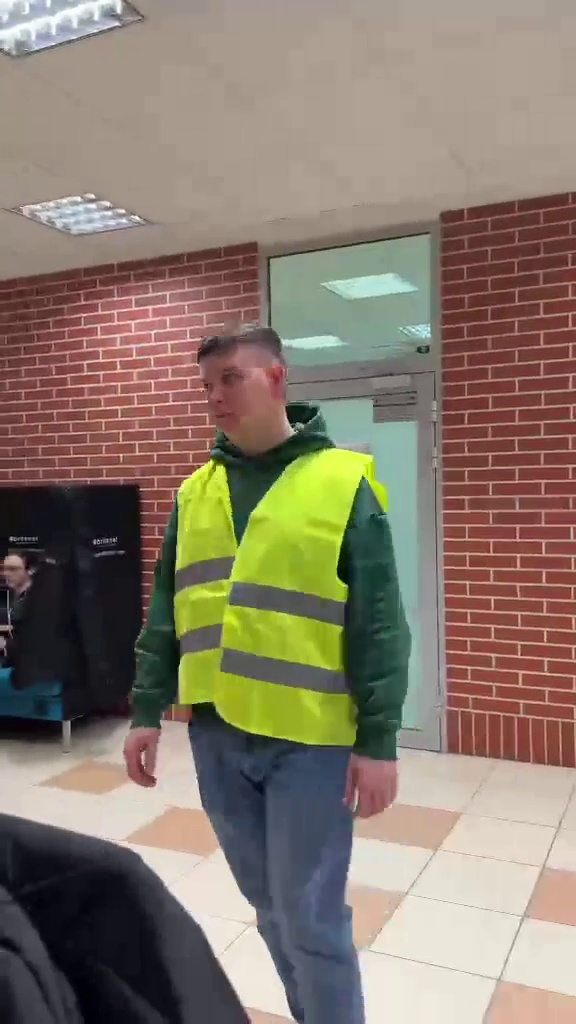vest: (123, 322, 412, 1024)
